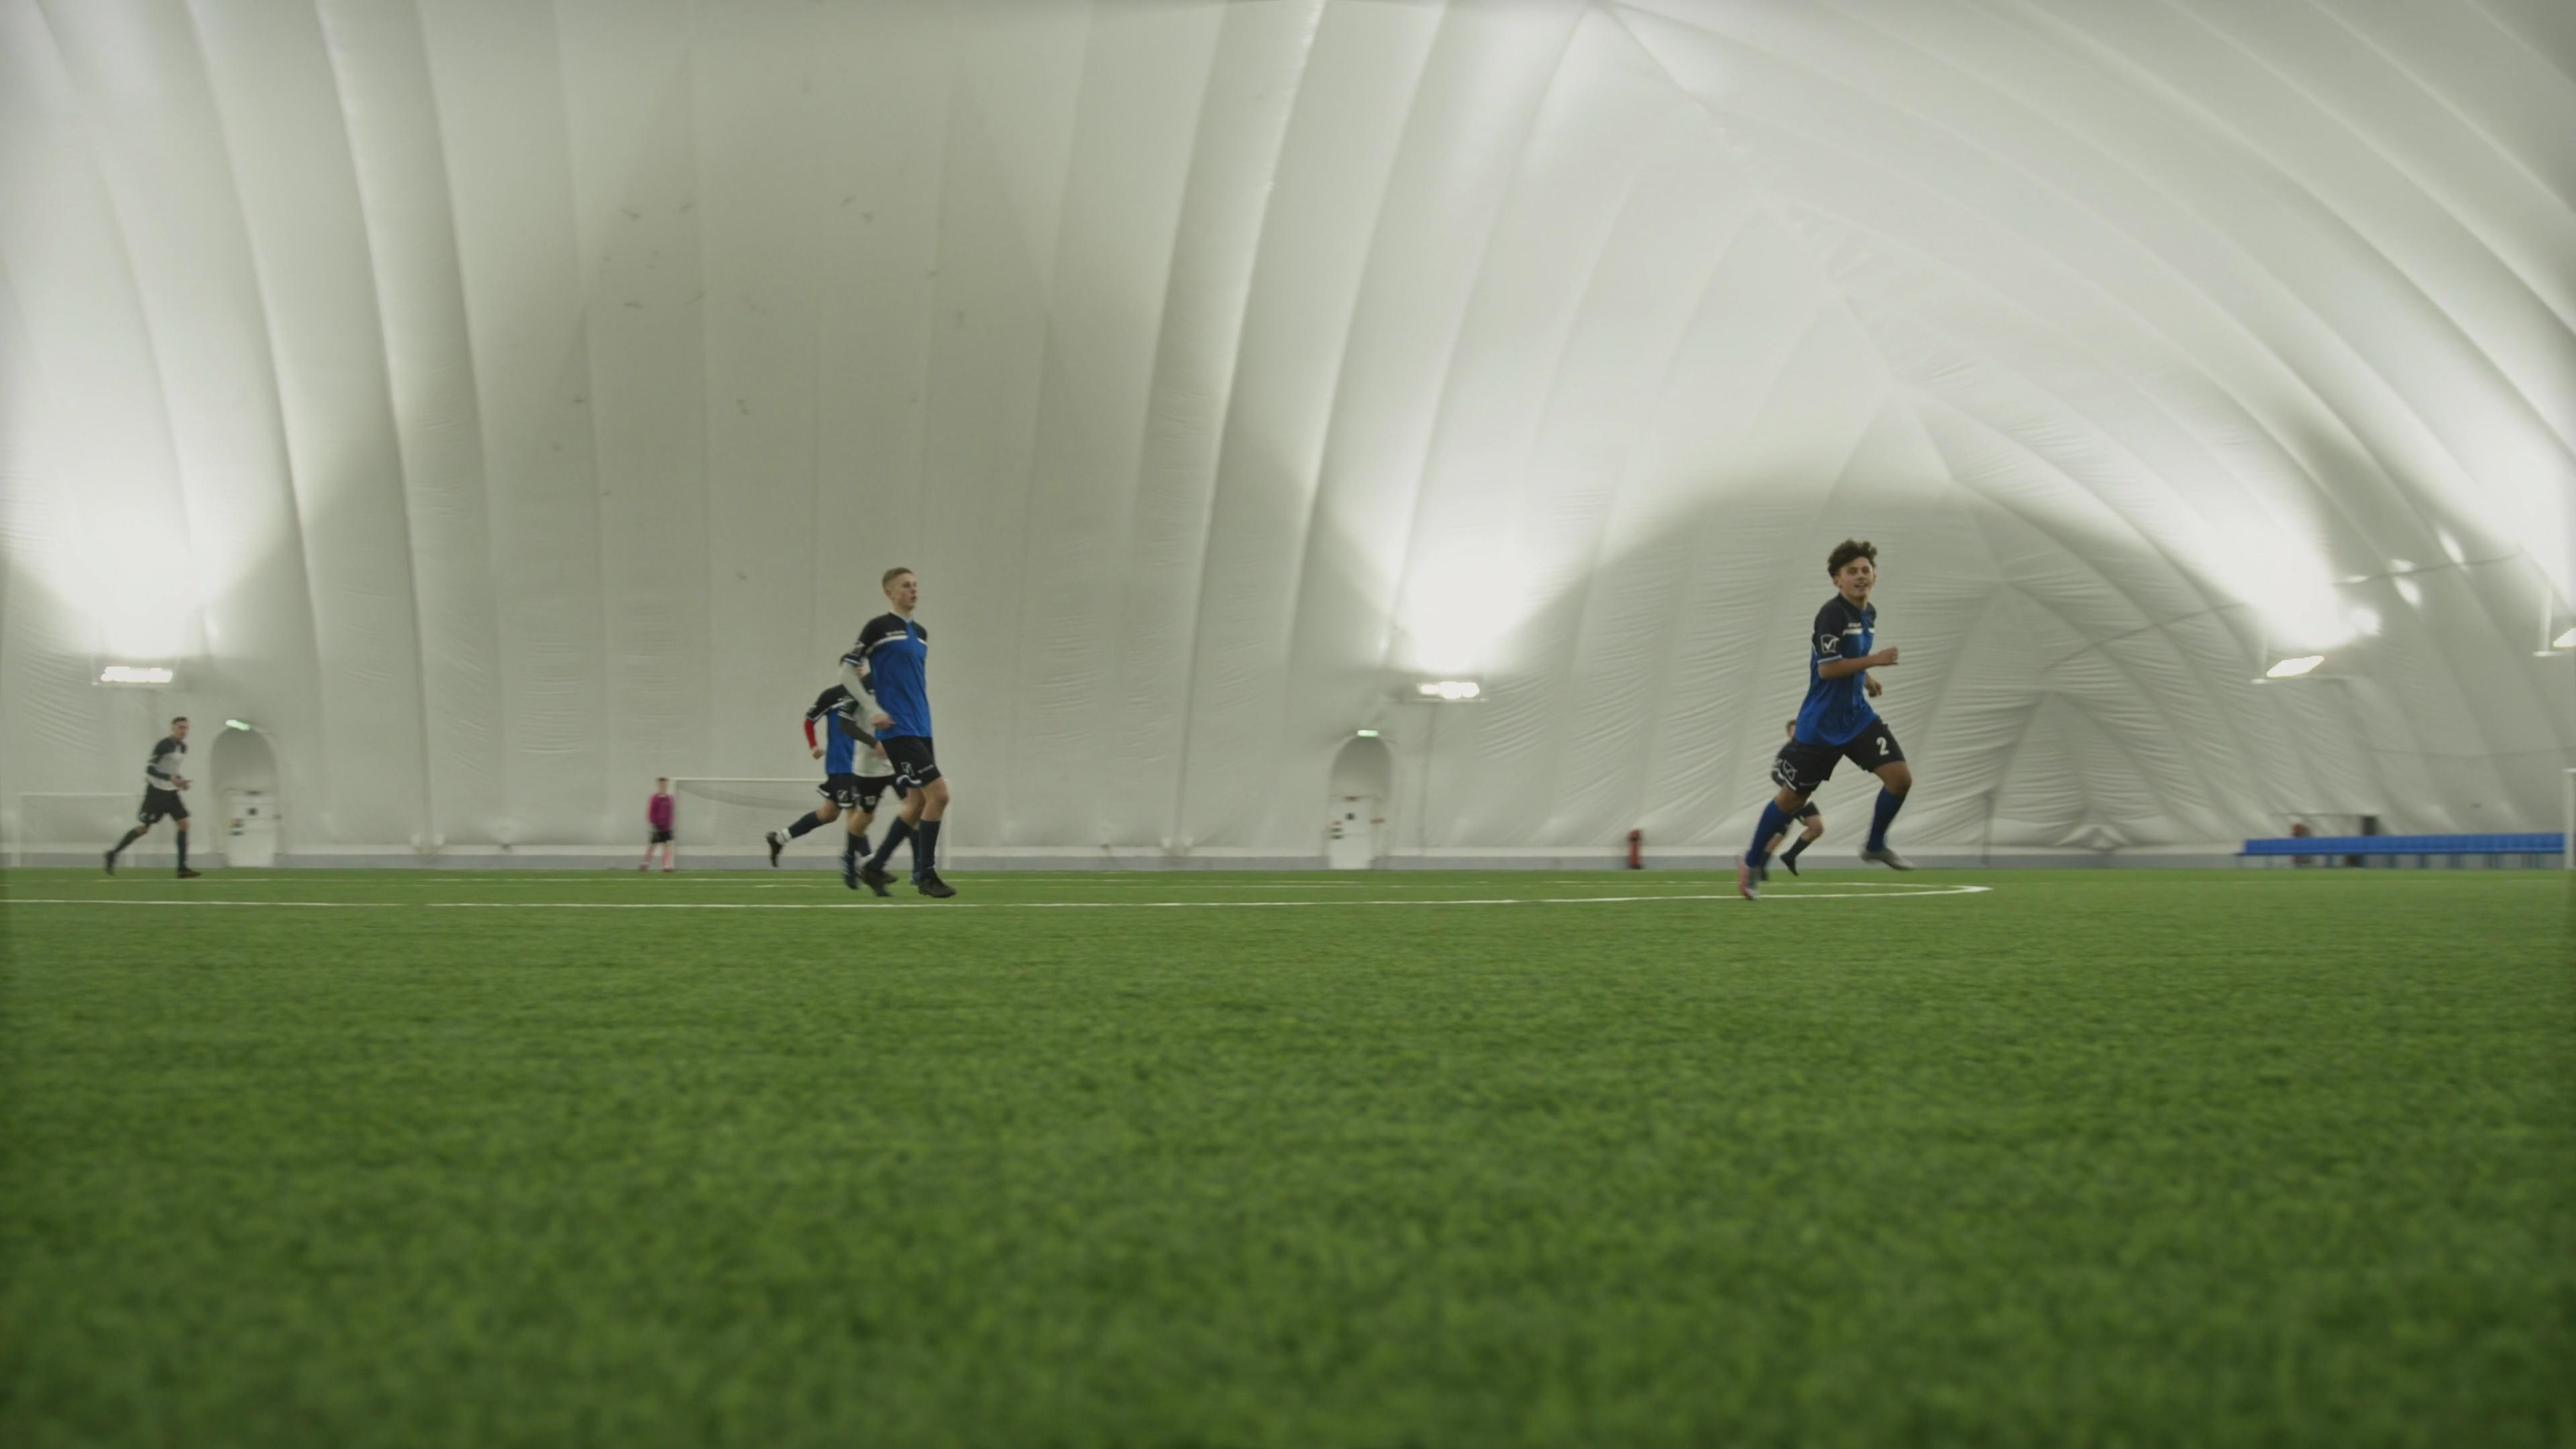team1: (1737, 538, 1914, 892), (830, 563, 957, 901), (770, 674, 892, 883)
team1gk: (642, 777, 678, 874)
team2: (99, 713, 196, 879), (839, 679, 892, 883)
